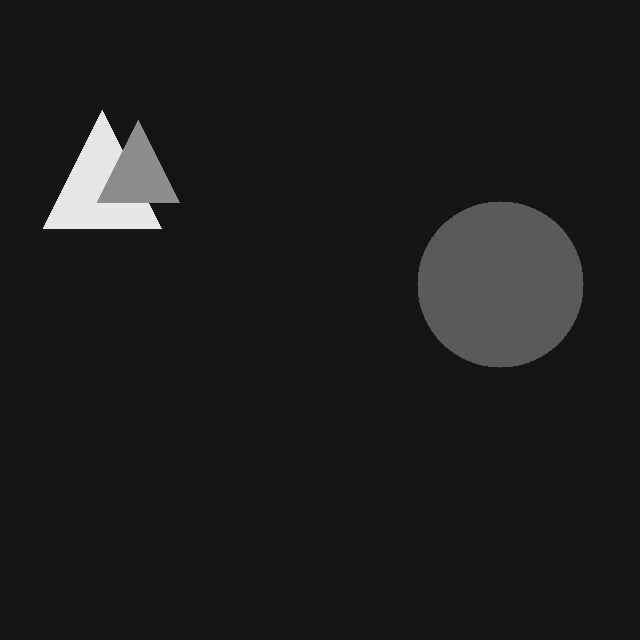circle: (417, 201, 583, 367)
triangle: (43, 110, 161, 228), (97, 120, 179, 202)
